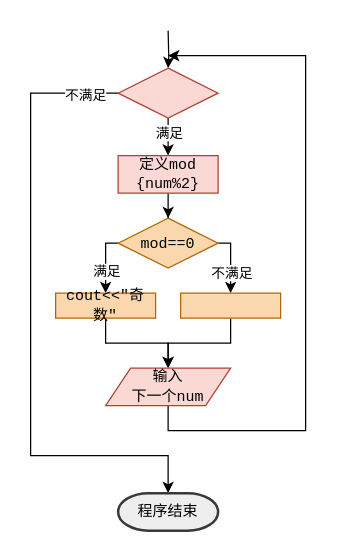
The diagram is 338 pixels wide and 554 high, and some of its shapes have lost their labels. The centre of each missing label's shape, as x and y in pixels:
cout<<"偶数": [230,305]
条件: [167,92]
